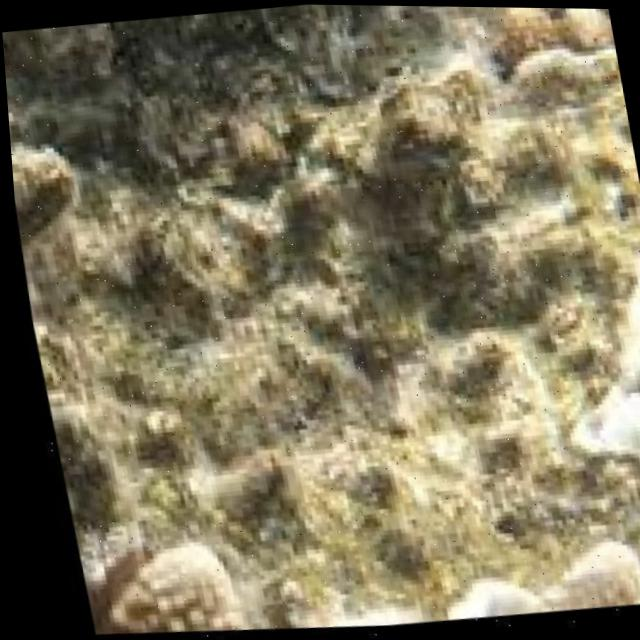Dead Coral: (35, 10, 524, 446)
